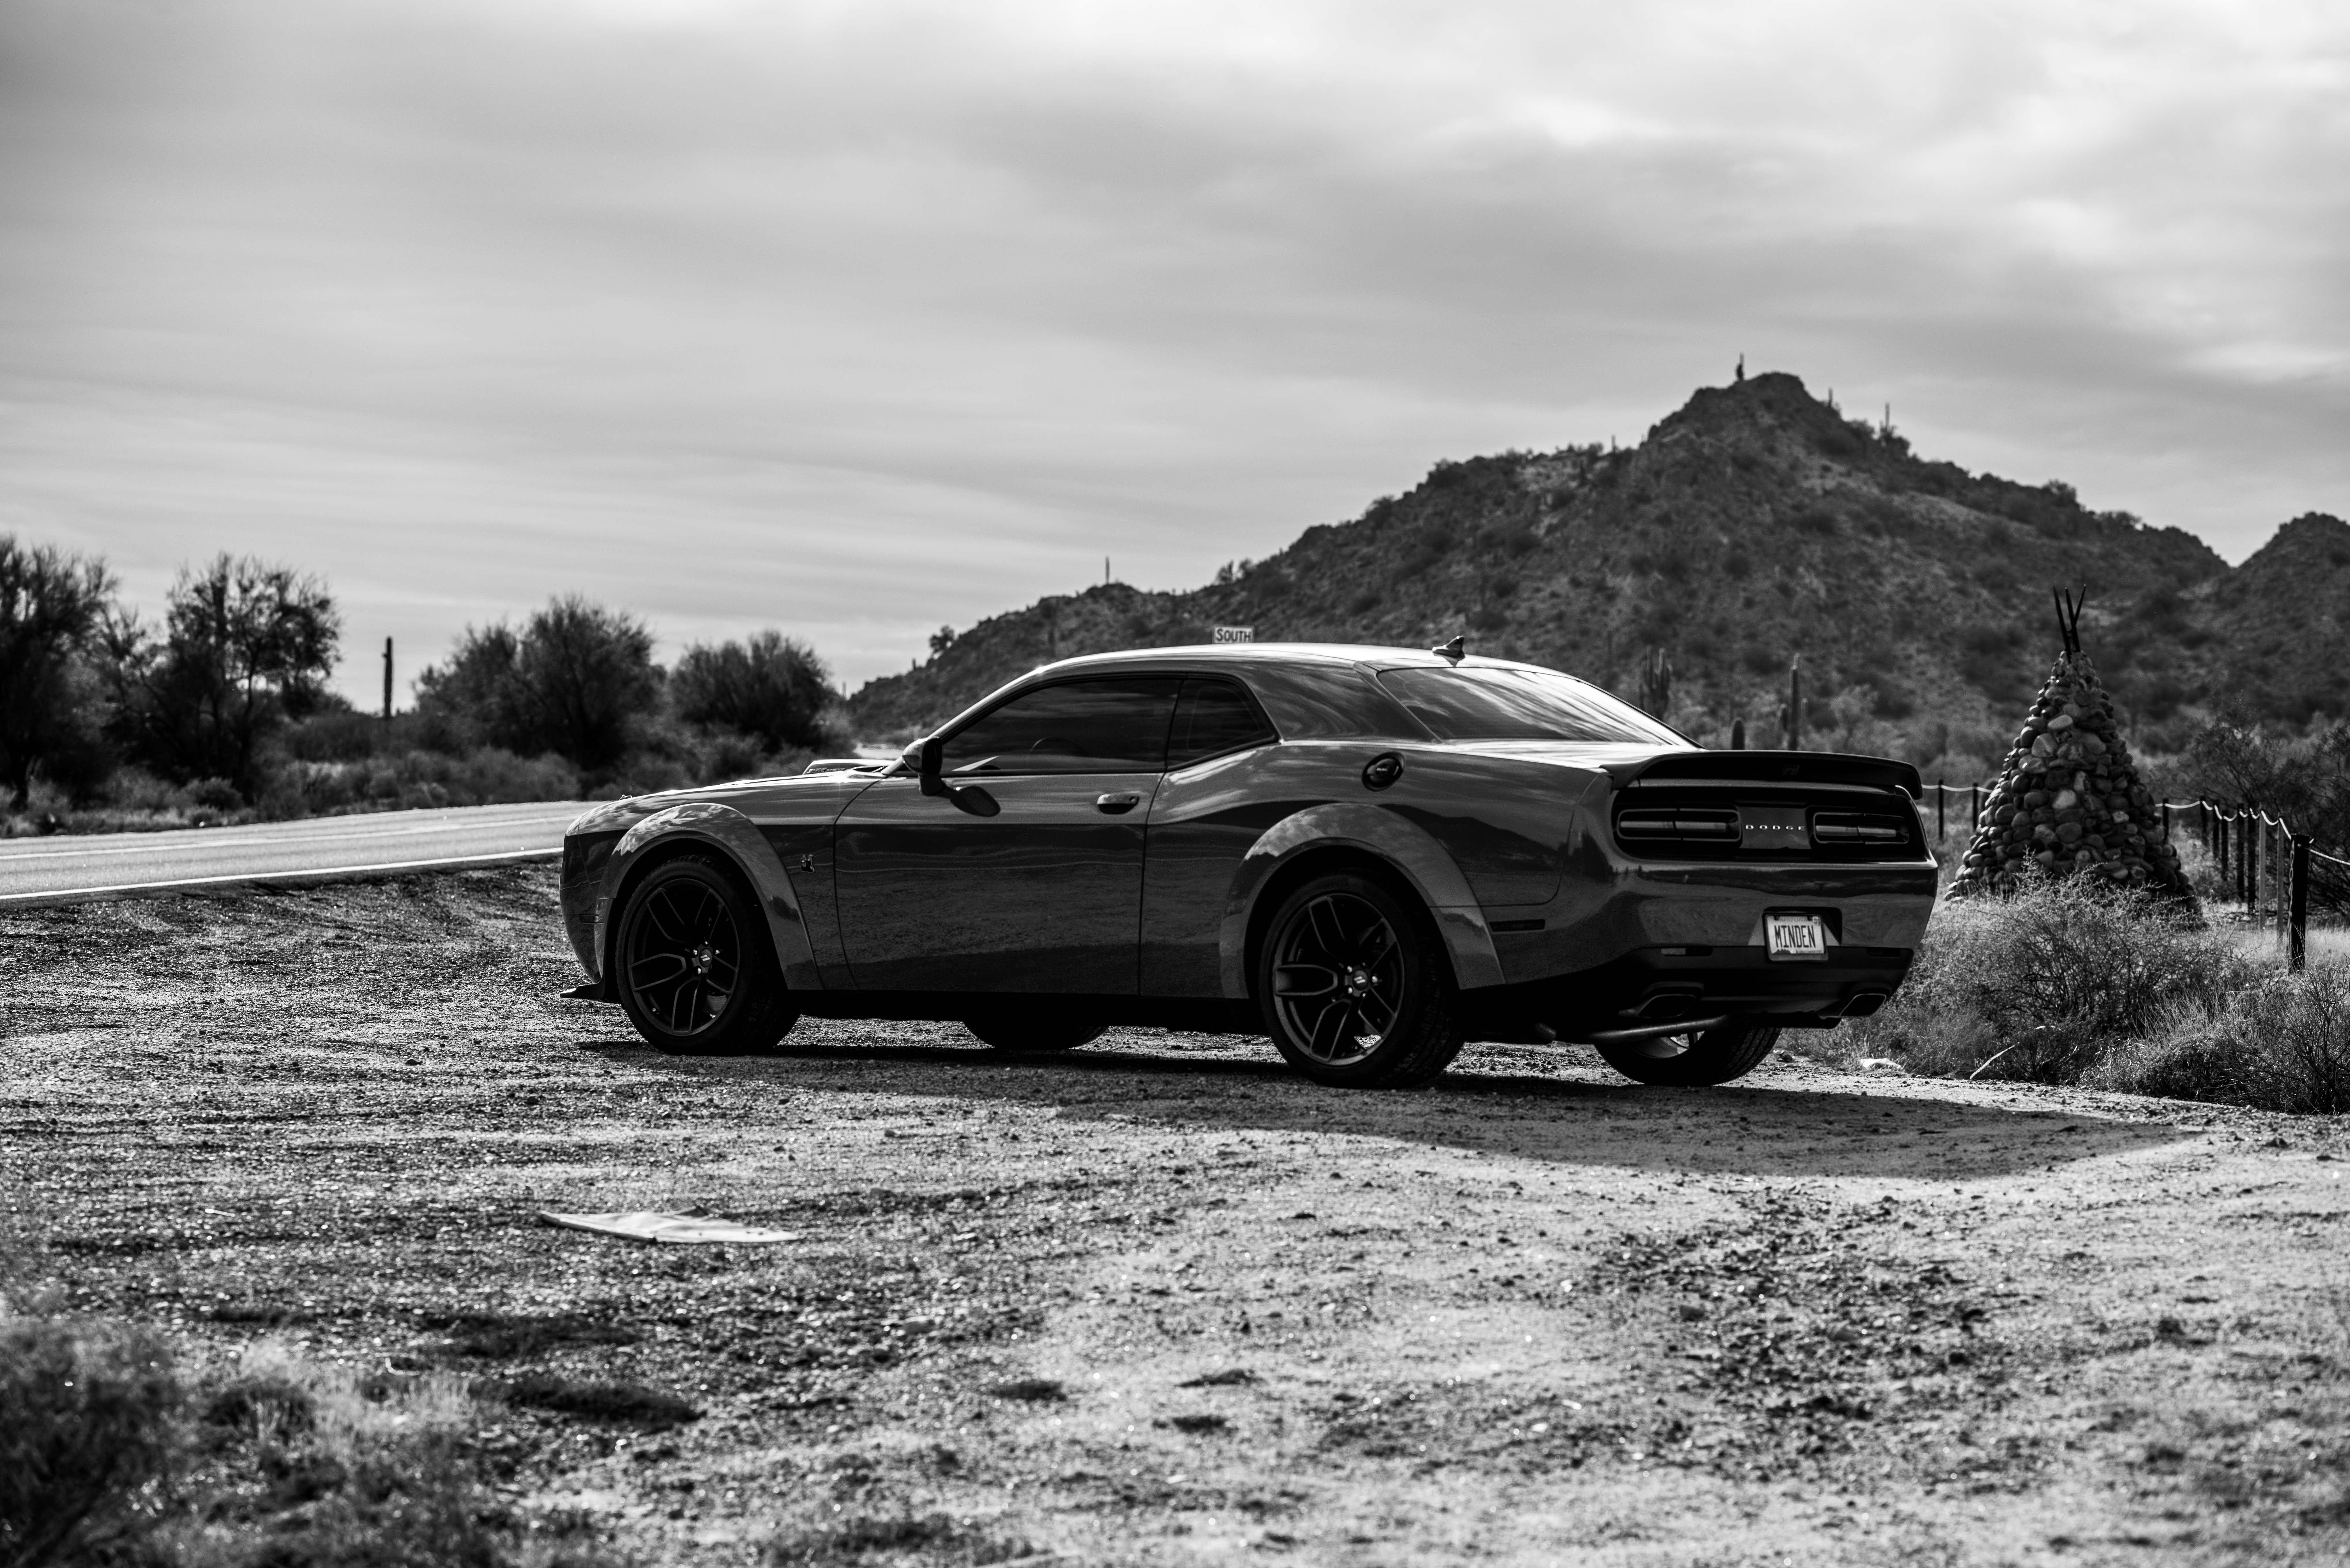dodge: (1734, 812, 1822, 849)
